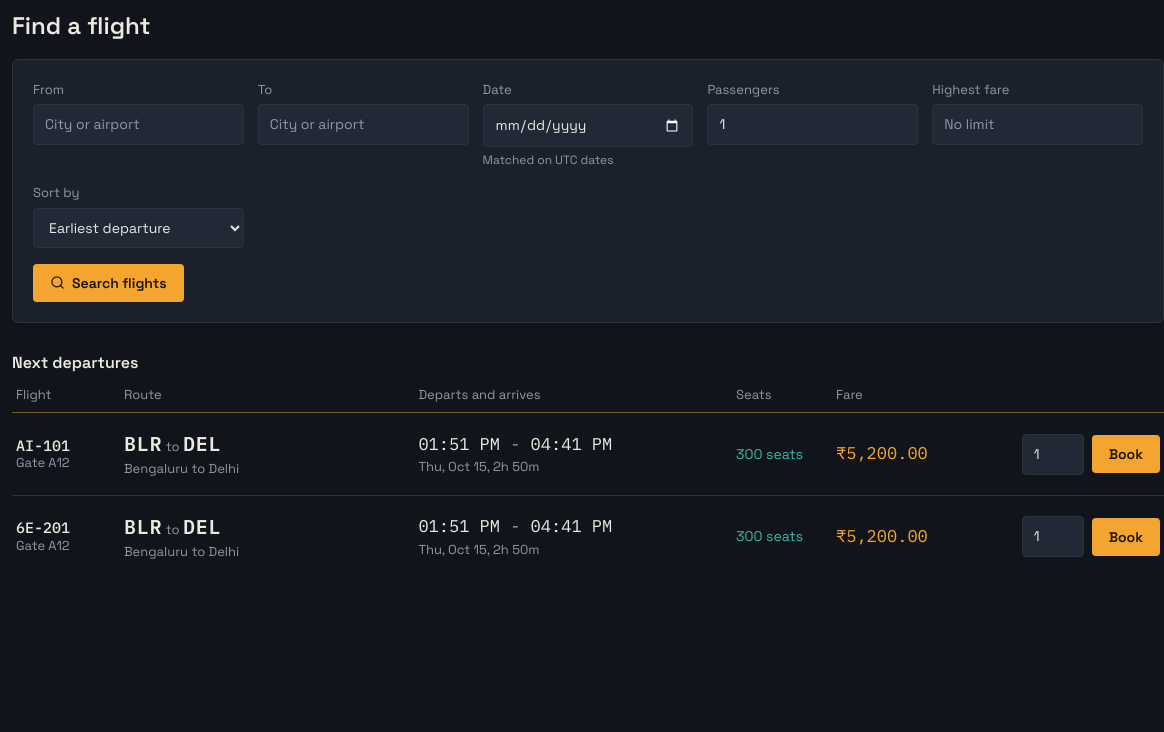
Test: SearchPage › booking › books for the signed-in user without sending a userId, then refreshes the seat count
Expected: the text "AI-101" is shown, [16, 436, 70, 455]
Replace the text in the number field named "Seats on AI-101" with "2" at (1053, 454), box [1022, 434, 1084, 474]
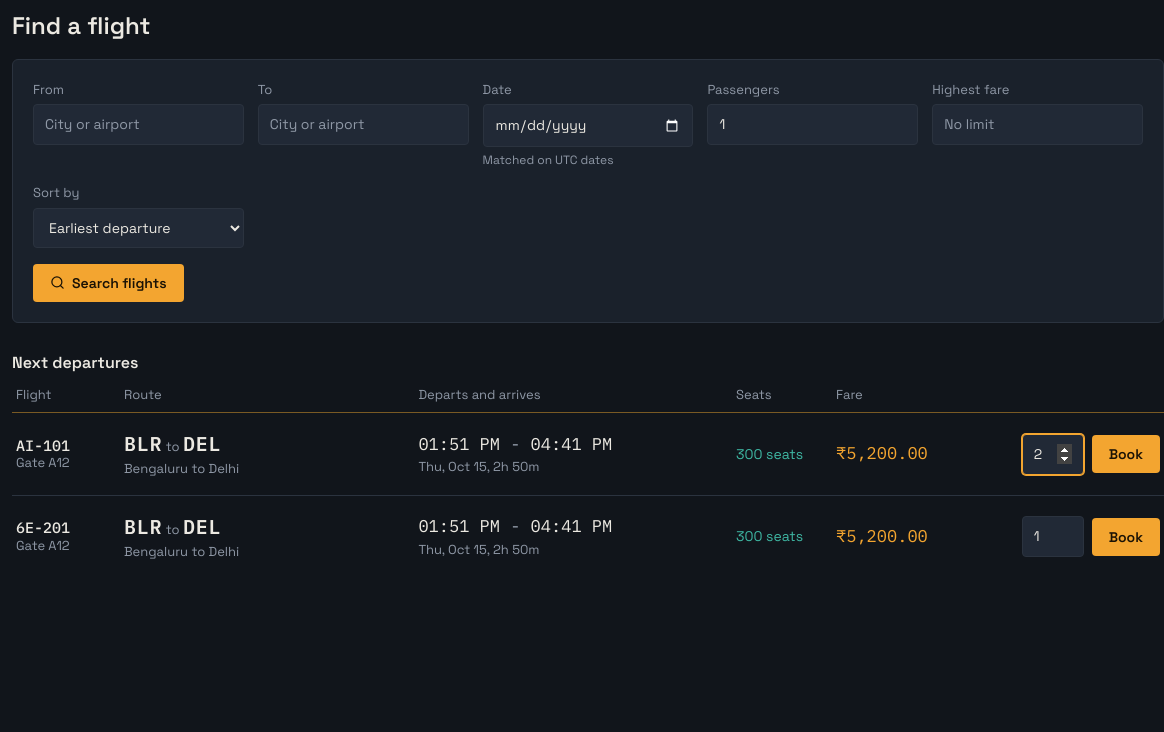
Click the button "Book" in the row of "AI-101".
click(1126, 454)  # box [1092, 435, 1160, 473]
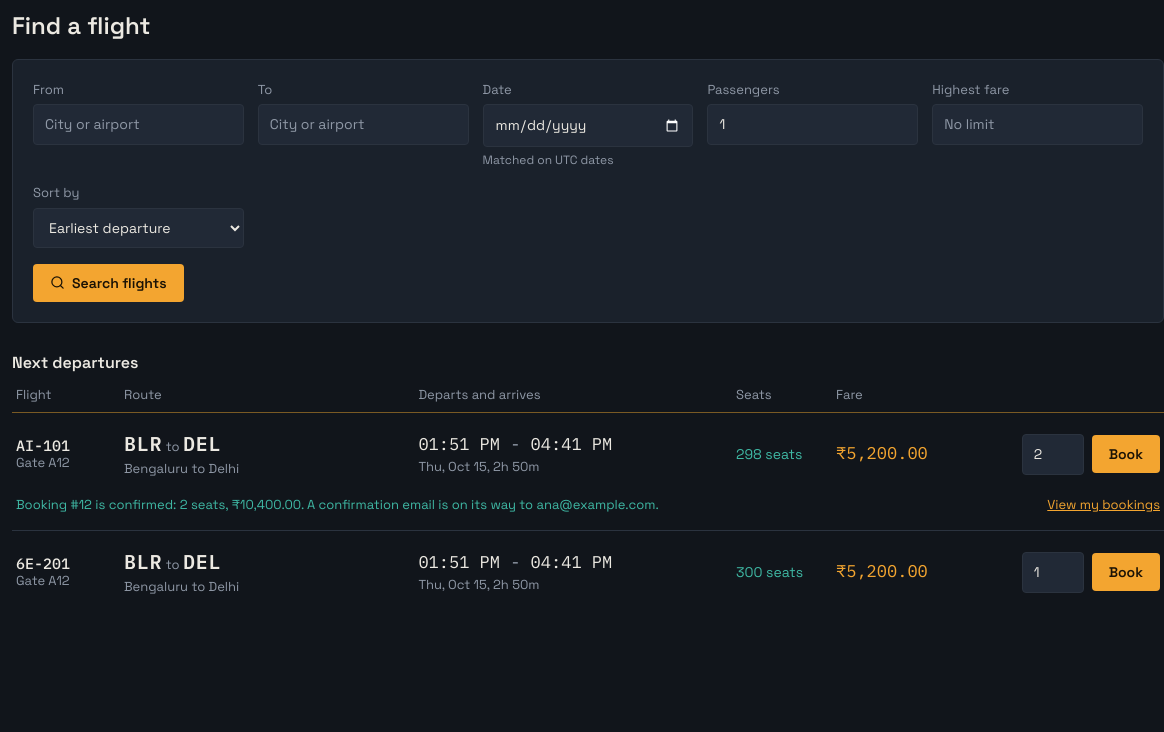
Now the text "Booking #12 is confirmed" is shown, box [16, 495, 659, 514]
Now the text "298 seats" is shown, box [736, 444, 802, 462]
